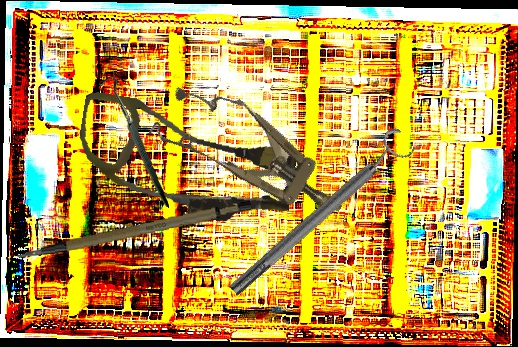Cannula: (69, 90, 303, 232)
Fixation Ring: (219, 123, 420, 305)
Hook Surgical: (90, 76, 178, 208)
Scalpel Handle: (12, 197, 254, 261)
Speculum: (146, 67, 362, 244)
